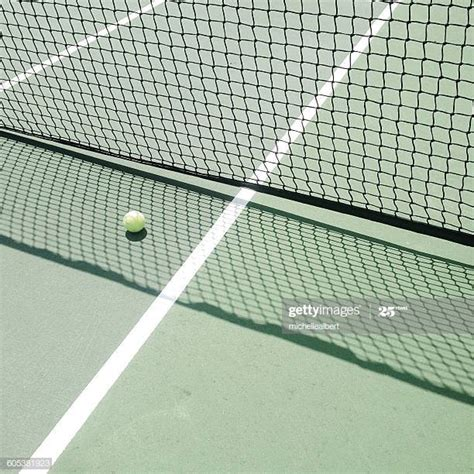tennis_ball: (123, 210, 145, 232)
